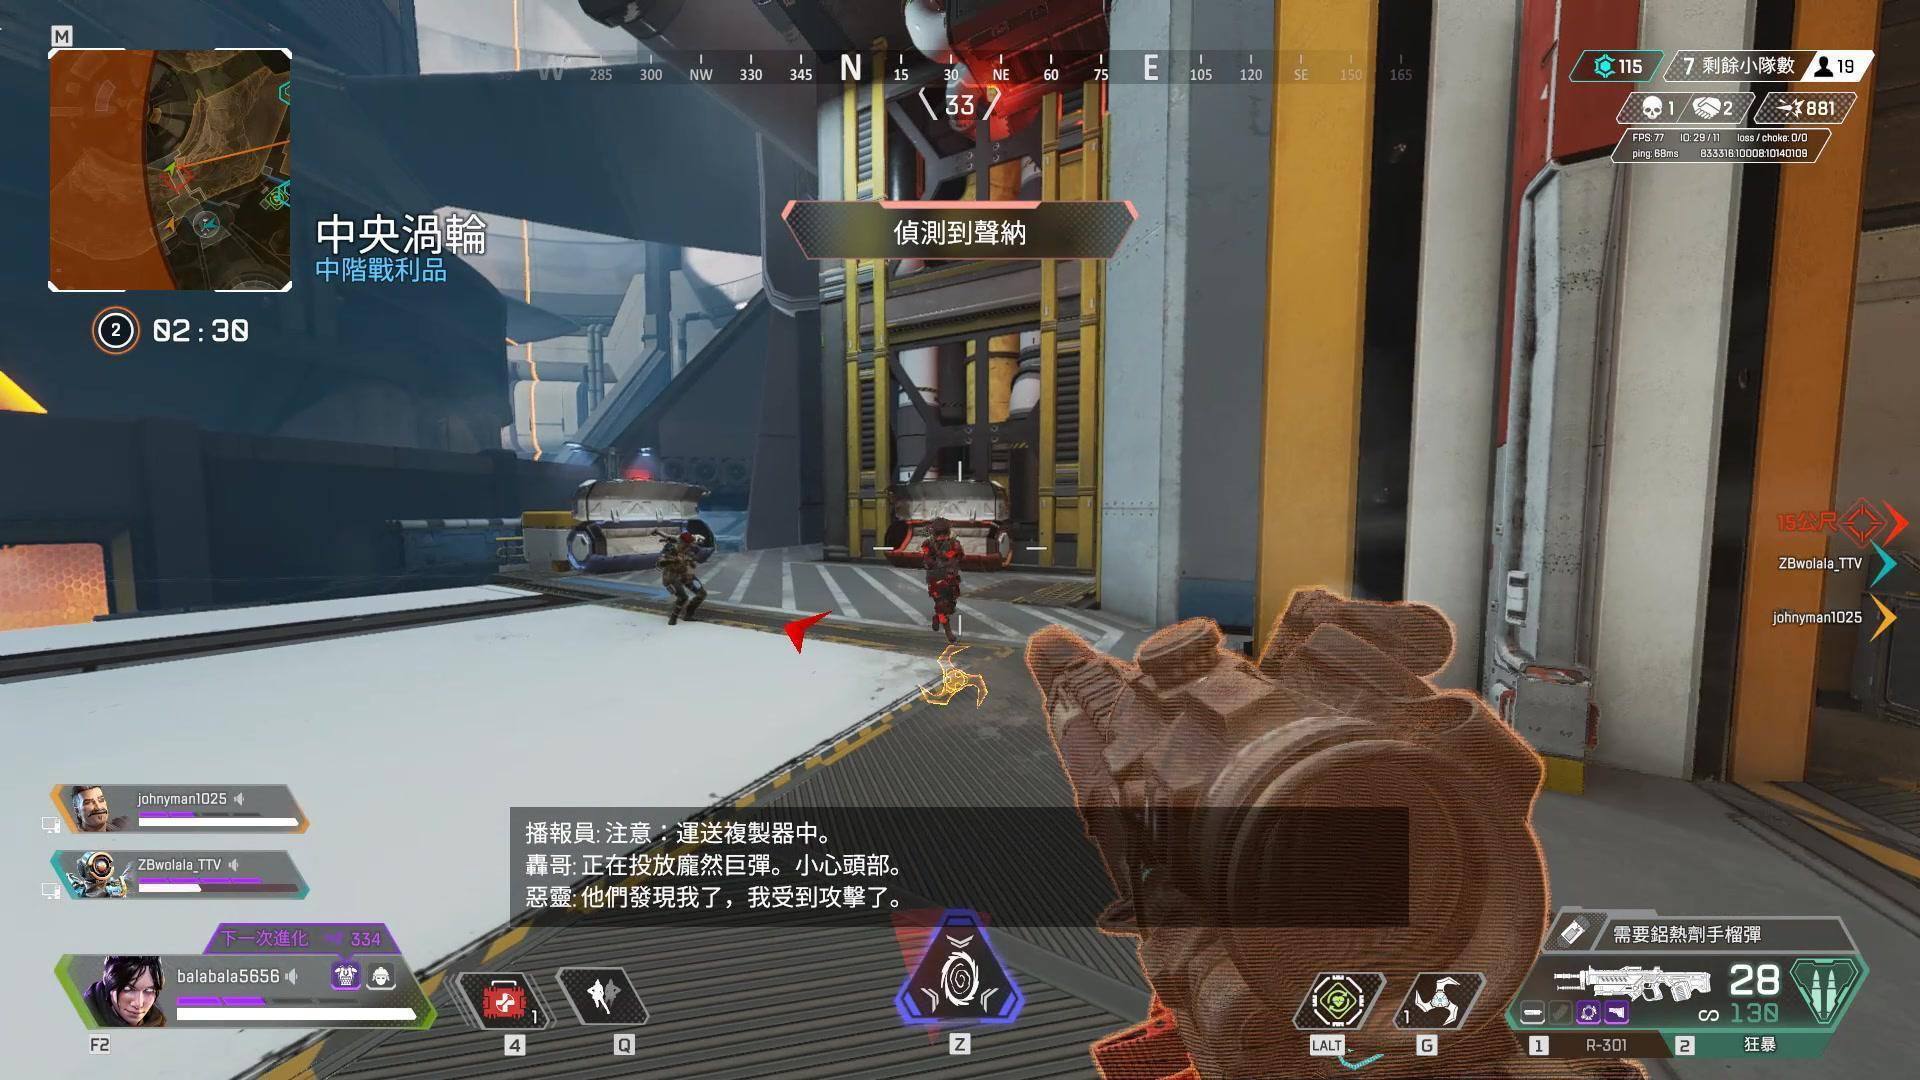avatar: (919, 515, 969, 644), (652, 529, 712, 629)
